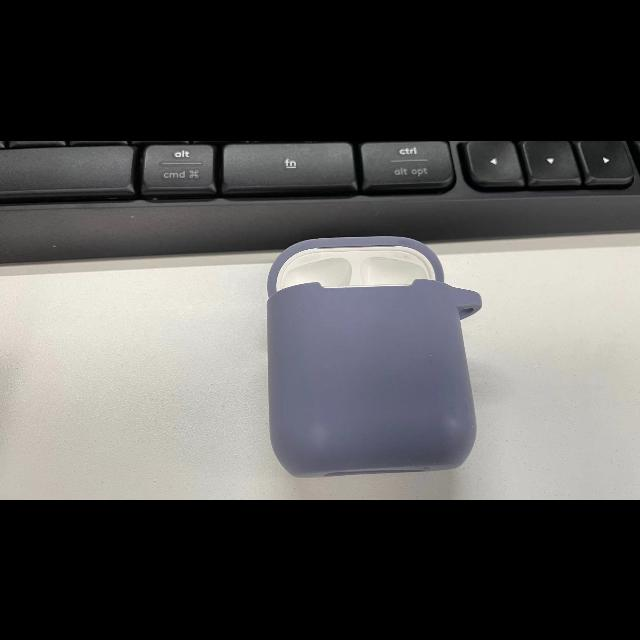airpods: (264, 238, 483, 474)
